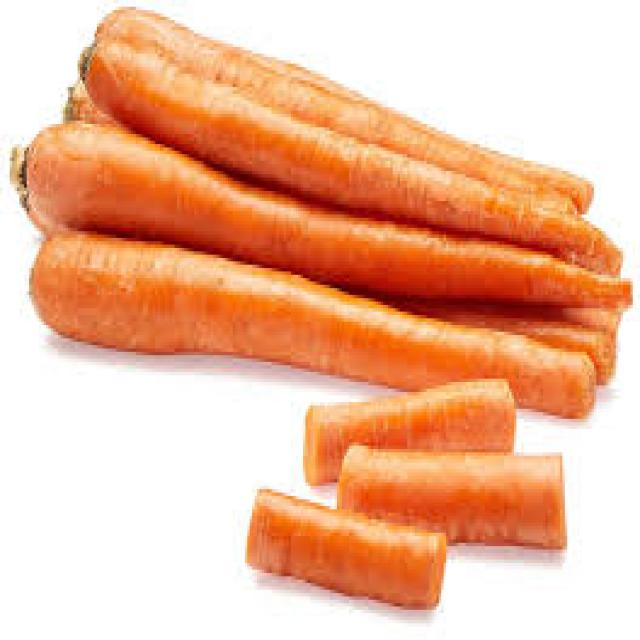Stale_Carrot: (82, 33, 626, 274)
